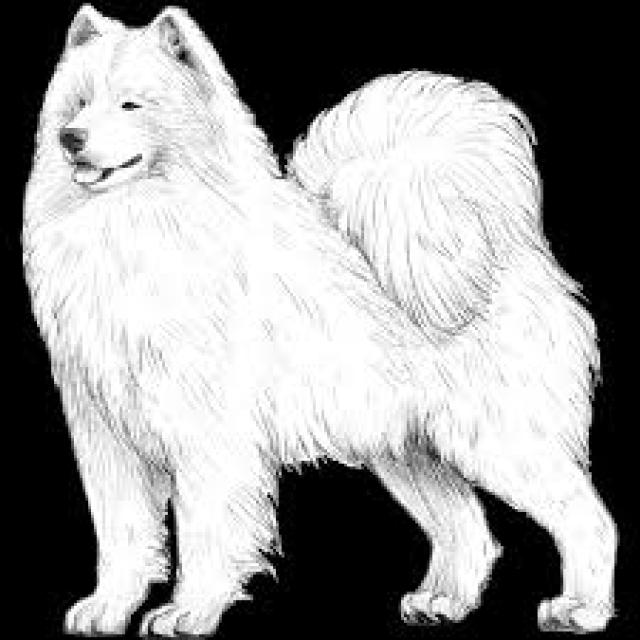dogs: (22, 4, 620, 639)
